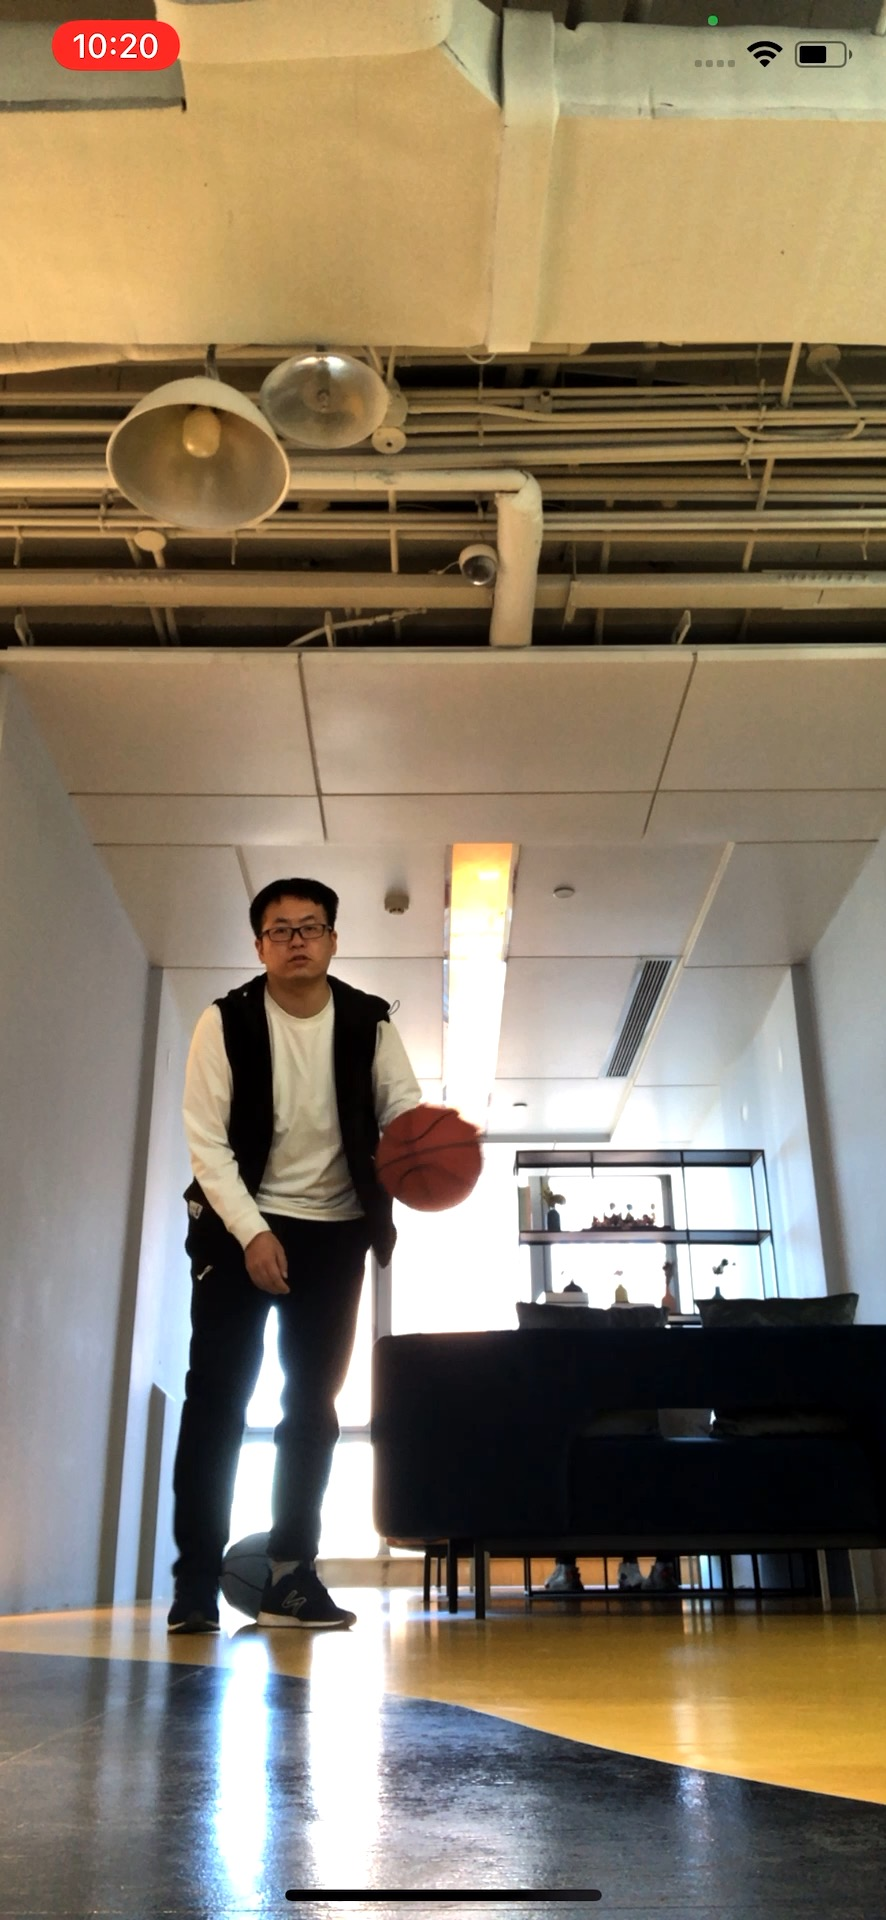ball: (378, 1106, 485, 1212)
